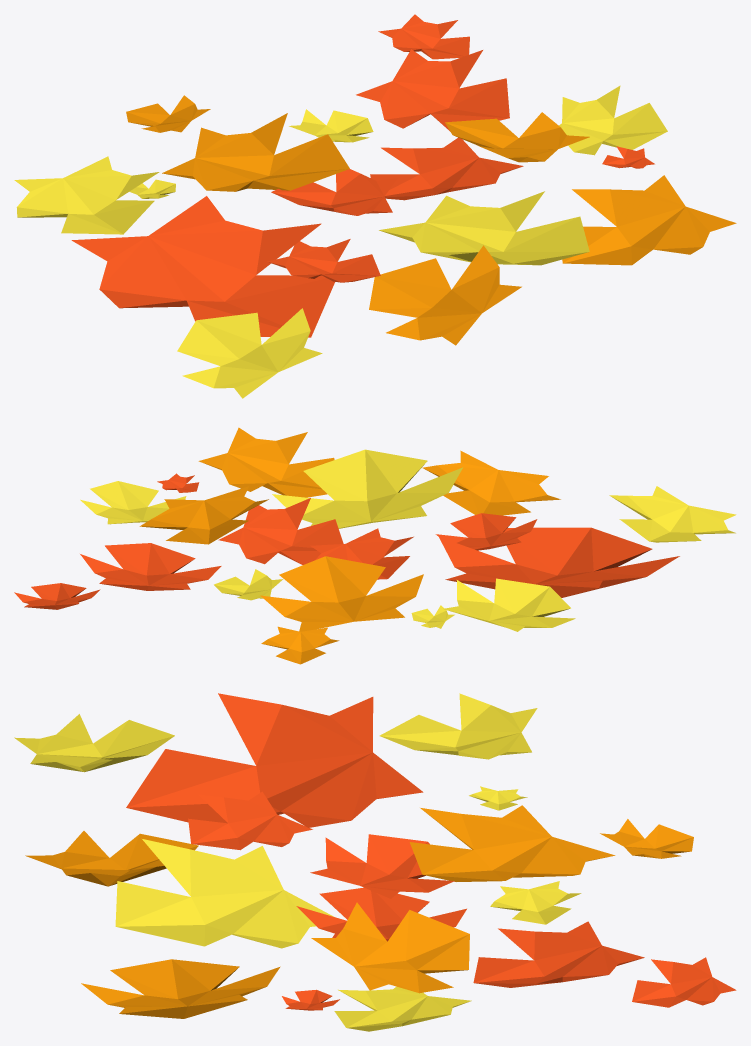
The model's file is leaf_group2.obj.
3 renders of one model, top to bottom at view 1: azimuth 30°, elevation 25°; view 2: azimuth 150°, elevation 25°; view 3: azimuth 270°, elevation 25°, orthographic. The views are drawn at different scales.
Parts seen in each view (by area): view 1: group1173903527.014, group1173903527.005, group1173903527.004, group1173903527.011, group1173903527.002, group1173903527.023, group1173903527.003, group1173903527.006, group1173903527.020, group1173903527.010, group1173903527.012, group1173903527.008 (+5 smaller); view 2: group1173903527.014, group1173903527.005, group1173903527.011, group1173903527.004, group1173903527.020, group1173903527.002, group1173903527.006, group1173903527.003, group1173903527.023, group1173903527.012, group1173903527.010, group1173903527.001 (+6 smaller); view 3: group1173903527.014, group1173903527.005, group1173903527.011, group1173903527.012, group1173903527.004, group1173903527.003, group1173903527.006, group1173903527.023, group1173903527.008, group1173903527.001, group1173903527.002, group1173903527.010 (+6 smaller).
Boxes of the visible parts, <box> form: group1173903527.014: <box>71,196,334,337</box>; group1173903527.005: <box>379,191,589,265</box>; group1173903527.004: <box>562,175,736,265</box>; group1173903527.011: <box>162,113,349,191</box>; group1173903527.002: <box>369,245,521,345</box>; group1173903527.023: <box>177,308,322,398</box>; group1173903527.003: <box>356,49,509,131</box>; group1173903527.006: <box>14,156,159,234</box>; group1173903527.020: <box>370,137,523,200</box>; group1173903527.010: <box>559,85,667,155</box>; group1173903527.012: <box>445,112,589,162</box>; group1173903527.008: <box>271,169,397,215</box>; group1173903527.014: <box>439,527,679,597</box>; group1173903527.005: <box>272,449,462,528</box>; group1173903527.011: <box>260,556,423,631</box>; group1173903527.004: <box>198,427,334,497</box>; group1173903527.020: <box>218,498,343,564</box>; group1173903527.002: <box>422,450,560,515</box>; group1173903527.006: <box>443,578,575,631</box>; group1173903527.003: <box>80,543,221,590</box>; group1173903527.023: <box>609,486,736,542</box>; group1173903527.012: <box>139,486,268,544</box>; group1173903527.010: <box>80,481,186,524</box>; group1173903527.001: <box>435,513,537,550</box>; group1173903527.014: <box>126,693,423,827</box>; group1173903527.005: <box>115,839,333,948</box>; group1173903527.011: <box>409,805,615,881</box>; group1173903527.012: <box>311,902,469,993</box>; group1173903527.004: <box>81,959,280,1018</box>; group1173903527.003: <box>473,921,644,987</box>; group1173903527.006: <box>379,693,537,759</box>; group1173903527.023: <box>14,714,174,772</box>; group1173903527.008: <box>310,834,454,898</box>; group1173903527.001: <box>188,791,312,850</box>; group1173903527.002: <box>25,831,198,886</box>; group1173903527.010: <box>334,986,471,1031</box>.
Size of the model in its own units: 2.82 by 0.3079 by 2.67.
3 materials, 3 textured.
